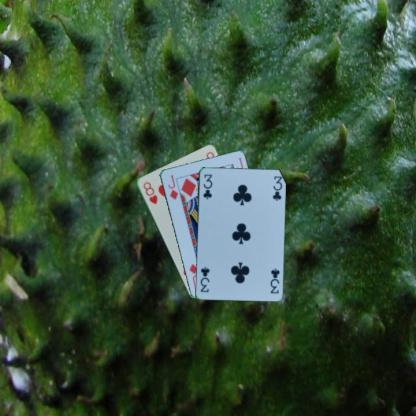3c: (268, 266, 280, 295), (201, 172, 213, 200)
8h: (140, 179, 158, 206)
Jd: (165, 172, 179, 201)
